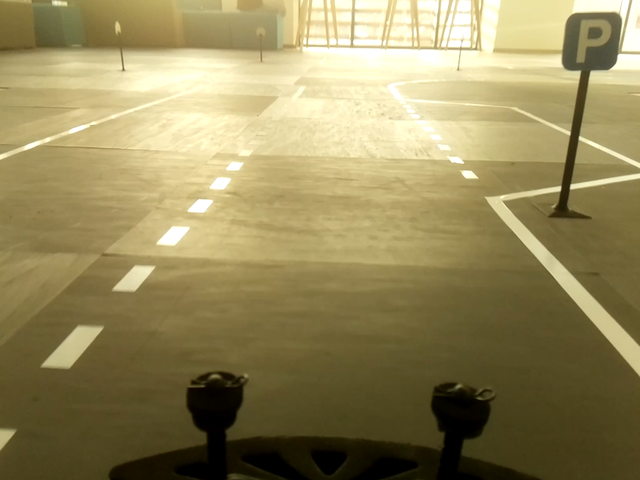parking: (561, 13, 621, 70)
